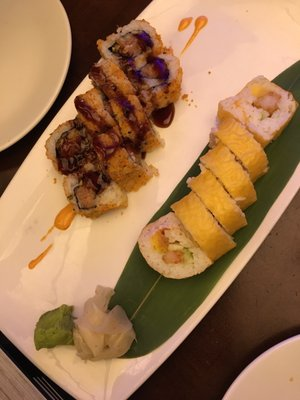sushi: (220, 332, 300, 400)
